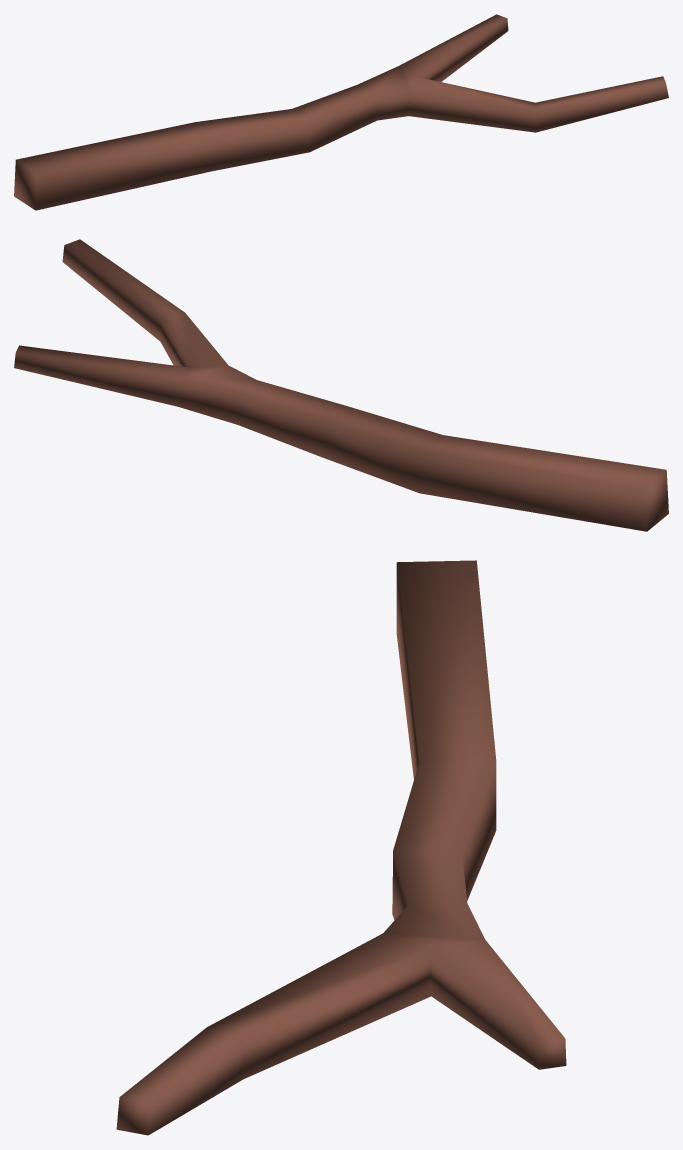
Rendered from Stick_DarkBrown_5.fbx.
3 renders of one model, top to bottom at view 1: azimuth 30°, elevation 25°; view 2: azimuth 150°, elevation 25°; view 3: azimuth 270°, elevation 25°, orthographic. The views are drawn at different scales.
Visible parts, largest first — view 1: Stick_DarkBrown_5; view 2: Stick_DarkBrown_5; view 3: Stick_DarkBrown_5.
Part boxes in pixels (left/top/right/bottom): Stick_DarkBrown_5: left=14, top=14, right=668, bottom=210; Stick_DarkBrown_5: left=14, top=239, right=668, bottom=531; Stick_DarkBrown_5: left=116, top=560, right=566, bottom=1135.
Bounding box in the file's own units: 213 × 18.62 × 72.8.
